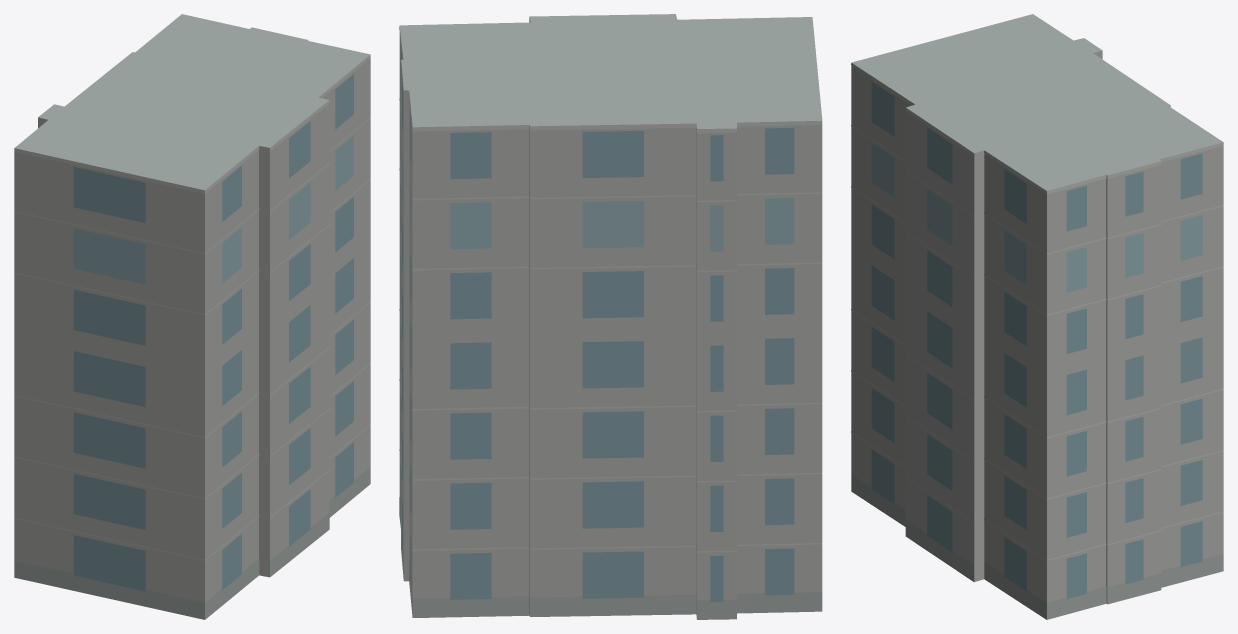
Rendered from survey-upis-32694698.glb.
3 views of the same model, side by side, from view 1: azimuth 30°, elevation 25°; view 2: azimuth 150°, elevation 25°; view 3: azimuth 270°, elevation 25° (orthographic). The views are drawn at different scales.
Parts seen in each view (by area): view 1: survey-upis-32694698.tmp; view 2: survey-upis-32694698.tmp; view 3: survey-upis-32694698.tmp.
Part boxes in pixels (left/top/right/bottom): survey-upis-32694698.tmp: left=14, top=14, right=370, bottom=619; survey-upis-32694698.tmp: left=399, top=14, right=822, bottom=619; survey-upis-32694698.tmp: left=851, top=14, right=1223, bottom=619.
Size of the model in its own units: 25.06 by 28.3 by 22.29.
